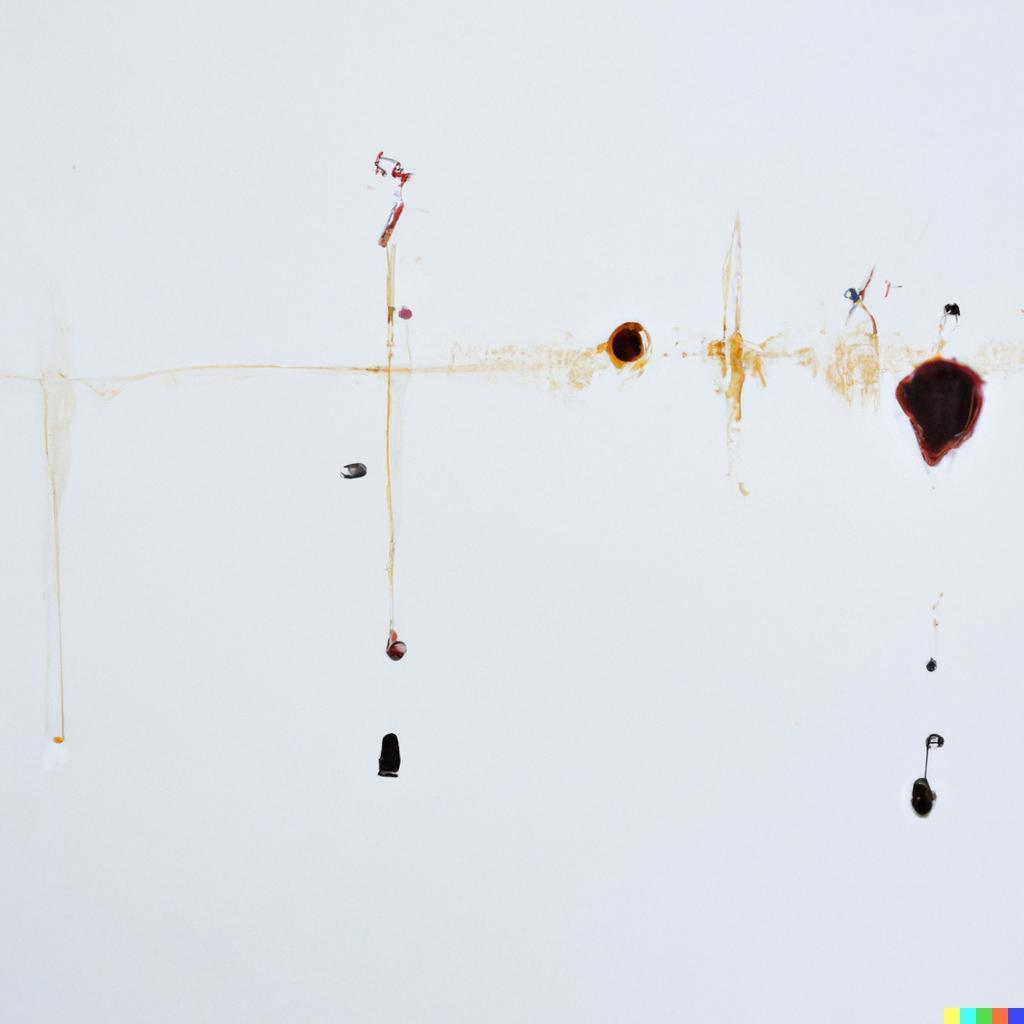Bloodstain-Detection: (898, 360, 982, 461), (606, 324, 645, 365)
